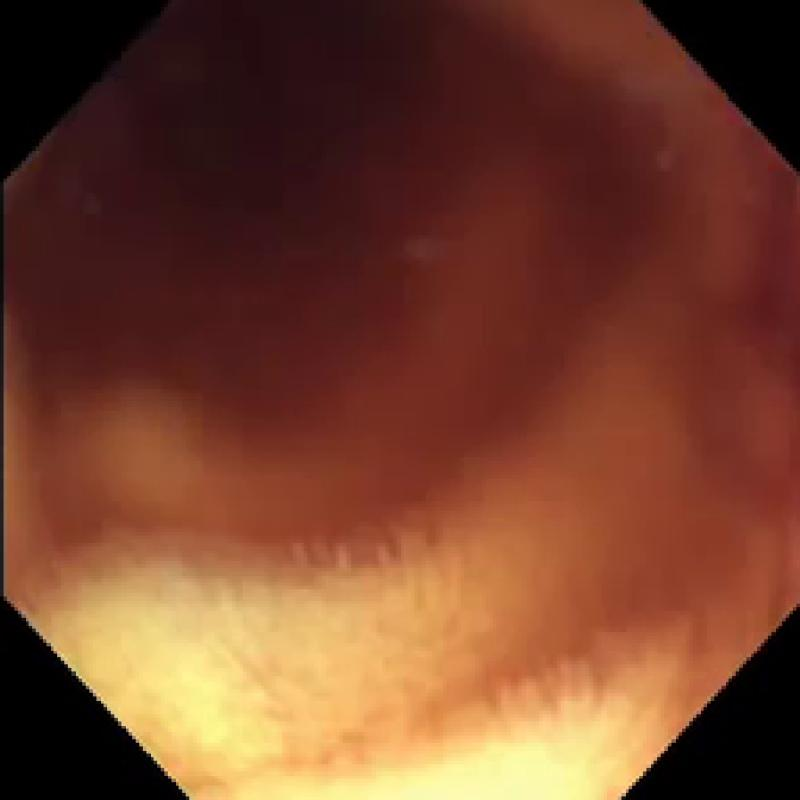bleeding: (14, 10, 800, 511)
